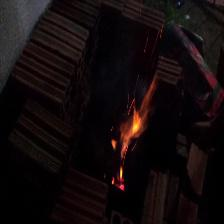fire: (112, 80, 158, 194)
